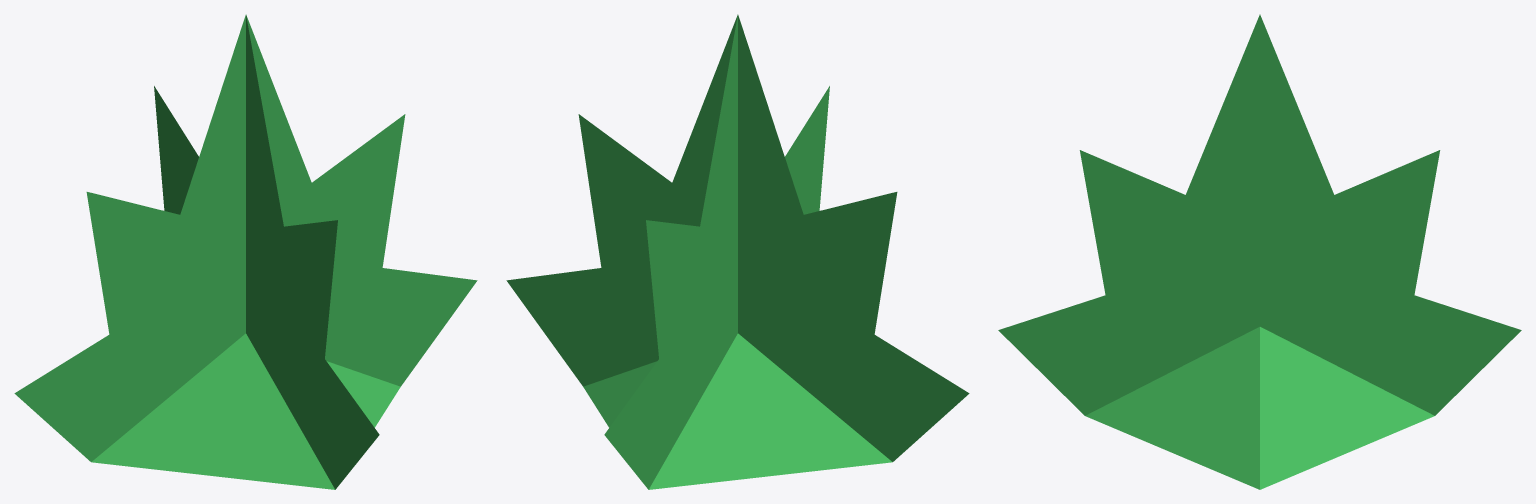
File: fern-small.glb
The picture shows the model from 3 angles, left to right: view 1: azimuth 30°, elevation 25°; view 2: azimuth 150°, elevation 25°; view 3: azimuth 270°, elevation 25°; orthographic projection. The views are drawn at different scales.
Parts seen in each view (by area): view 1: plant_flatShort; view 2: plant_flatShort; view 3: plant_flatShort.
Boxes of the visible parts, x1,y1,x2,y2 form: plant_flatShort: [14, 14, 477, 489]; plant_flatShort: [506, 14, 969, 489]; plant_flatShort: [998, 14, 1521, 489].
Bounding box in the file's own units: 1.11 × 0.9404 × 1.11.
